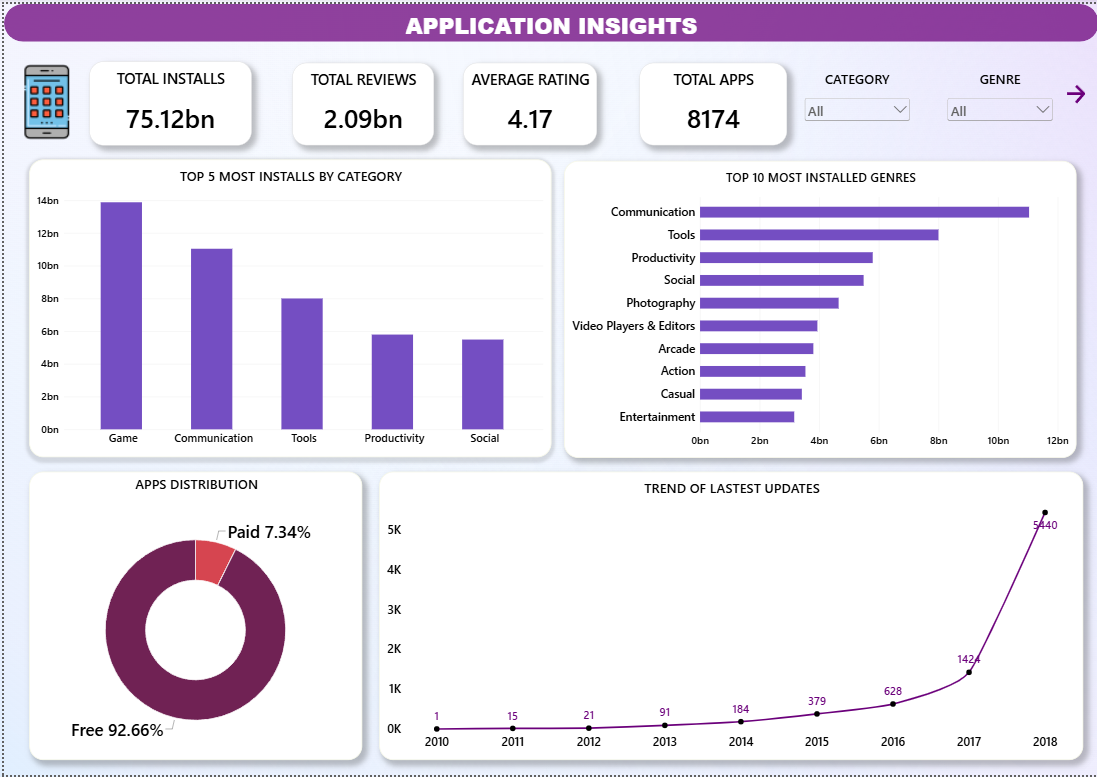

What the dashboard file says about the page in this screenshot:
{"tool":"powerbi","page":{"name":"Overview","canvas":[2000,1411],"ordinal":0},"visuals":[{"type":"columnChart","title":"TOP 5 MOST INSTALLS BY CATEGORY","fields":{"Category":["googleplaystore.Category"],"Y":["Sum(googleplaystore.Installs)"]},"box":[46,283.9,954,543.9],"z":0},{"type":"card","title":"TOTAL INSTALLS","fields":{"Values":["Measure Table.Total Installs"]},"box":[156,104.9,296.5,153.8],"z":1000,"group":"g1"},{"type":"donutChart","title":"APPS DISTRIBUTION","fields":{"Y":["Measure Table.Paid Apps","Measure Table.Free Apps"]},"box":[46,854.4,608.8,527],"z":1000},{"type":"card","title":"TOTAL APPS","fields":{"Values":["Measure Table.Total Apps"]},"box":[1162.3,106.4,269.5,150.9],"z":2000,"group":"g1"},{"type":"barChart","title":"TOP 10 MOST INSTALLED GENRES","fields":{"Category":["googleplaystore.Genres"],"Y":["Sum(googleplaystore.Installs)"]},"box":[1023.2,286.5,936.6,543.2],"z":2000},{"type":"card","title":"AVERAGE RATING","fields":{"Values":["Measure Table.Average Rating"]},"box":[838.8,106.6,244.4,150.4],"z":3000,"group":"g1"},{"type":"lineChart","title":"TREND OF LATEST UPDATES","fields":{"Category":["googleplaystore.Last Updated.Variation.Date Hierarchy.Year","googleplaystore.Last Updated.Variation.Date Hierarchy.Quarter","googleplaystore.Last Updated.Variation.Date Hierarchy.Month","googleplaystore.Last Updated.Variation.Date Hierarchy.Day"],"Y":["Count(googleplaystore.App)"]},"box":[685.6,854.4,1286.7,527],"z":3000},{"type":"group","id":"g1","title":"Group 1","box":[156,104.9,1276.5,153.5],"z":4000},{"type":"card","title":"TOTAL REVIEWS","fields":{"Values":["Sum(googleplaystore.Reviews)"]},"box":[527.4,106.6,258.8,150.4],"z":4000,"group":"g1"},{"type":"slicer","title":"CATEGORY","fields":{"Values":["googleplaystore.Category"]},"box":[1458.1,120.2,202.2,119.6],"z":4000,"group":"g2"},{"type":"actionButton","box":[1916,120.2,83.8,88.8],"z":5000},{"type":"group","id":"g2","title":"Group 2","box":[1458.1,120.2,463,122.8],"z":6000},{"type":"slicer","title":"GENRE","fields":{"Values":["googleplaystore.Genres"]},"box":[1720.1,120.2,202.2,119.6],"z":6001,"group":"g2"},{"type":"image","box":[0,110,156,138.1],"z":7000},{"type":"shape","box":[0,0,2000.4,69.1],"z":8000}]}

Visuals, with their boxes in screenshot pixels (x1, y1, x2, y2), scaled from the page's 2000x1411 canvas onto the 1097x777 screenshot:
"TOP 5 MOST INSTALLS BY CATEGORY" columnChart: bbox(25, 156, 548, 456)
"TOTAL INSTALLS" card: bbox(86, 58, 248, 142)
"APPS DISTRIBUTION" donutChart: bbox(25, 470, 359, 761)
"TOTAL APPS" card: bbox(638, 59, 785, 142)
"TOP 10 MOST INSTALLED GENRES" barChart: bbox(561, 158, 1075, 457)
"AVERAGE RATING" card: bbox(460, 59, 594, 142)
"TREND OF LATEST UPDATES" lineChart: bbox(376, 470, 1082, 761)
"Group 1" group: bbox(86, 58, 786, 142)
"TOTAL REVIEWS" card: bbox(289, 59, 431, 142)
"CATEGORY" slicer: bbox(800, 66, 911, 132)
actionButton: bbox(1051, 66, 1096, 115)
"Group 2" group: bbox(800, 66, 1054, 134)
"GENRE" slicer: bbox(943, 66, 1054, 132)
image: bbox(0, 61, 86, 137)
shape: bbox(0, 0, 1096, 38)
